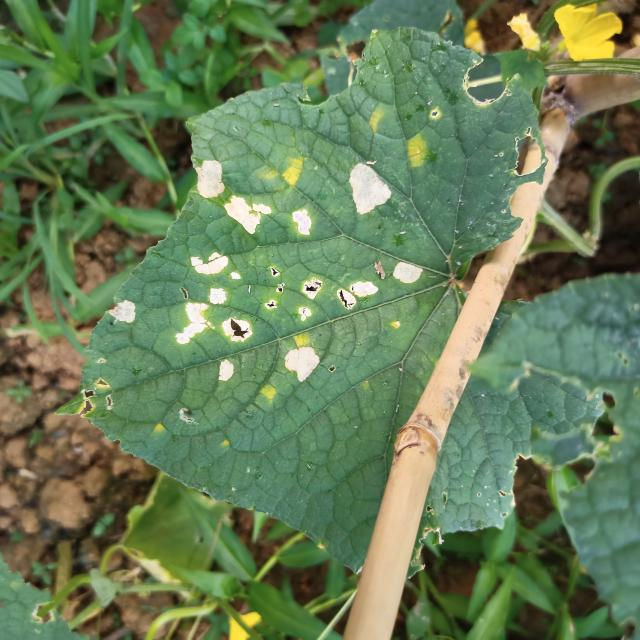disease_cucumber: (167, 250, 428, 398), (190, 161, 272, 243), (341, 155, 396, 222), (99, 298, 152, 337), (399, 131, 435, 174), (276, 153, 313, 191), (286, 208, 322, 245), (361, 104, 390, 138), (254, 380, 282, 406)
